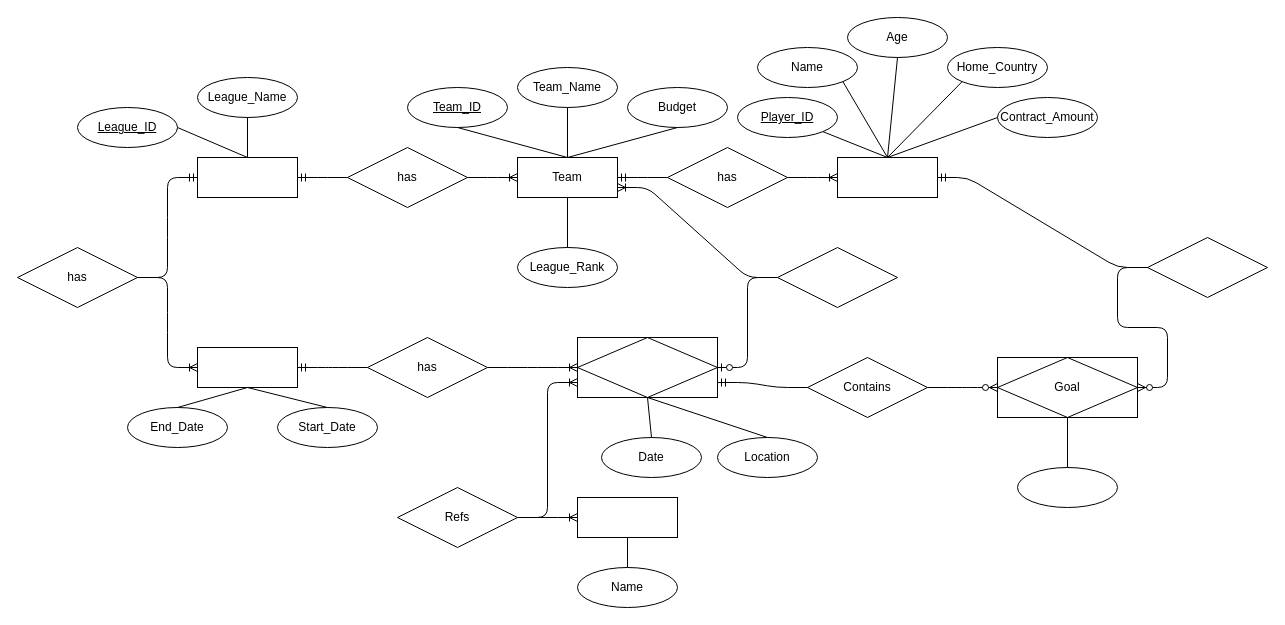
Image size: 1285x625. Some labels were removed from this diagram. Here are the shapes that lost their labels. From the top down, the centre of each, then its label:
At (x=247, y=177): "League".
At (x=887, y=177): "Player".
At (x=837, y=277): "Plays".
At (x=1207, y=267): "Makes".
At (x=247, y=367): "Season".
At (x=647, y=367): "Game".
At (x=1067, y=487): "Game_Time".
At (x=627, y=517): "Referee".
